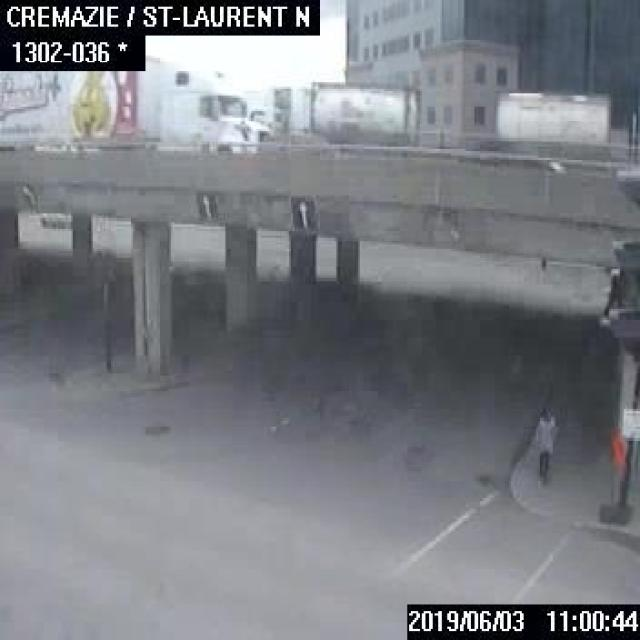construction: (600, 423, 629, 522)
pedestrian: (531, 409, 557, 482)
vehicle: (0, 51, 256, 149), (284, 90, 636, 158)
